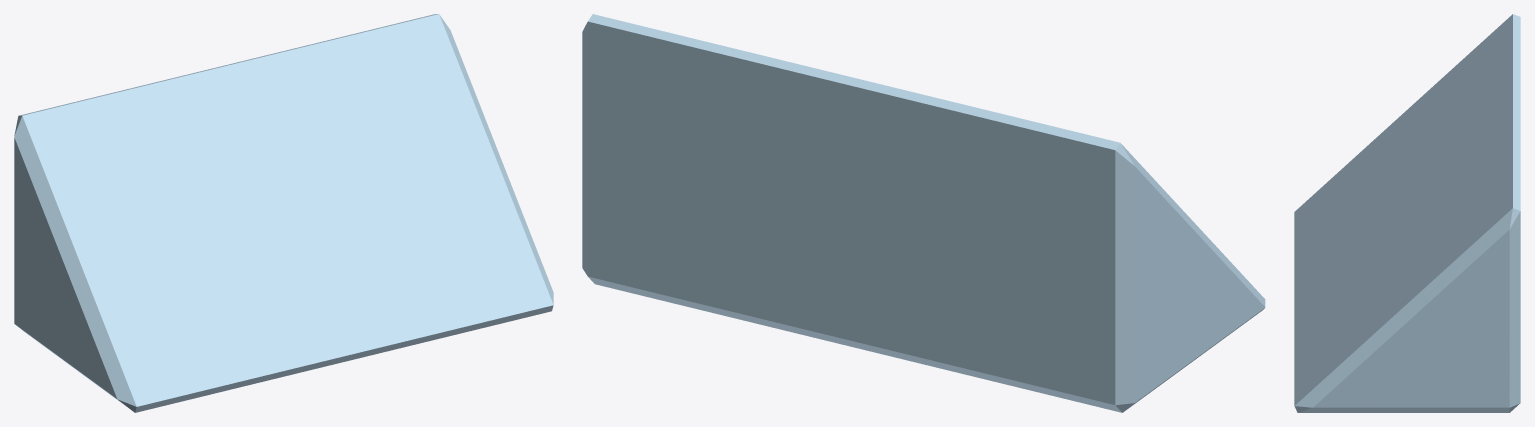
File: R4B_WideWedge_LOD1.fbx
3 renders of one model, left to right at view 1: azimuth 30°, elevation 25°; view 2: azimuth 150°, elevation 25°; view 3: azimuth 270°, elevation 25°, orthographic. The views are drawn at different scales.
Parts seen in each view (by area): view 1: R4B_WideWedge_LOD1; view 2: R4B_WideWedge_LOD1; view 3: R4B_WideWedge_LOD1.
Part boxes in pixels (box(x1,y1,x2,y2)): R4B_WideWedge_LOD1: box(14, 14, 553, 412); R4B_WideWedge_LOD1: box(582, 14, 1265, 412); R4B_WideWedge_LOD1: box(1294, 14, 1520, 412).
Bounding box in the file's own units: 1.07 × 0.503 × 0.503.
